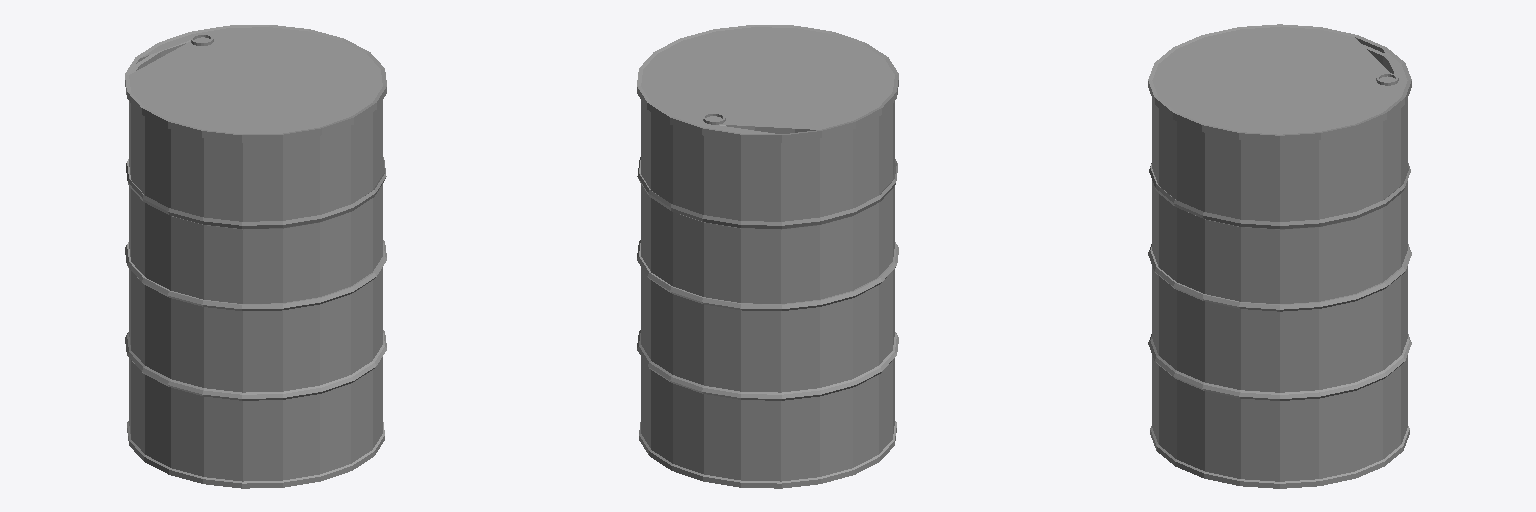
3 renders of one model, left to right at view 1: azimuth 30°, elevation 25°; view 2: azimuth 150°, elevation 25°; view 3: azimuth 270°, elevation 25°, orthographic.
Visible parts, largest first — view 1: boxxe:pCylinder1; view 2: boxxe:pCylinder1; view 3: boxxe:pCylinder1.
Part boxes in pixels (left/top/right/bottom): boxxe:pCylinder1: left=125, top=25, right=386, bottom=488; boxxe:pCylinder1: left=637, top=25, right=898, bottom=488; boxxe:pCylinder1: left=1148, top=24, right=1411, bottom=488.
Size of the model in its own units: 3.69 by 5.49 by 3.69.